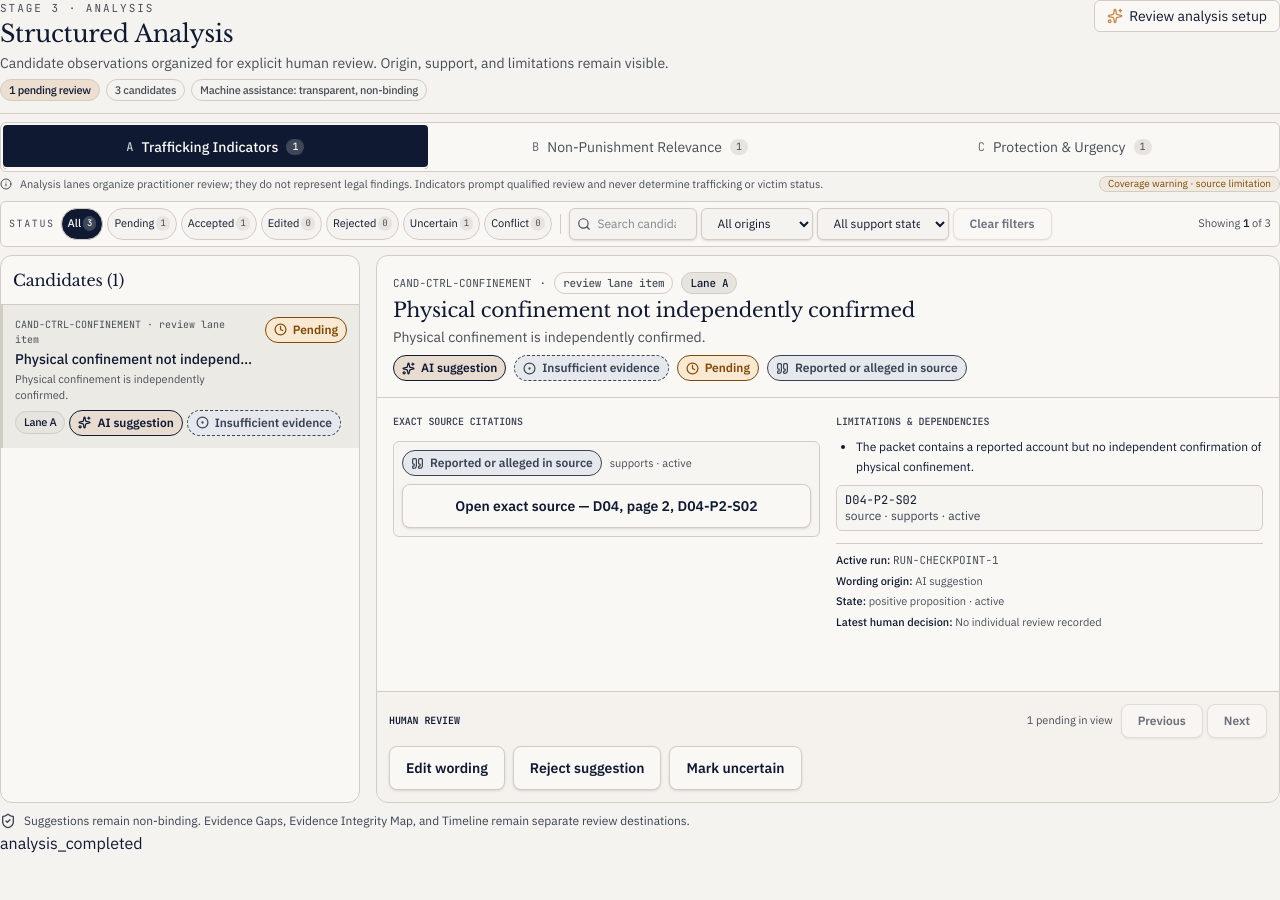
Scenario: Phase 3 Structured Analysis › opens the existing exact-source drawer and audits an intentional reveal
This screenshot has width=1280, height=900.
Click the button "Open exact source — D04, page 2, D04-P2-S02" at [606, 506], box top-left (402, 484), bottom-right (811, 528)
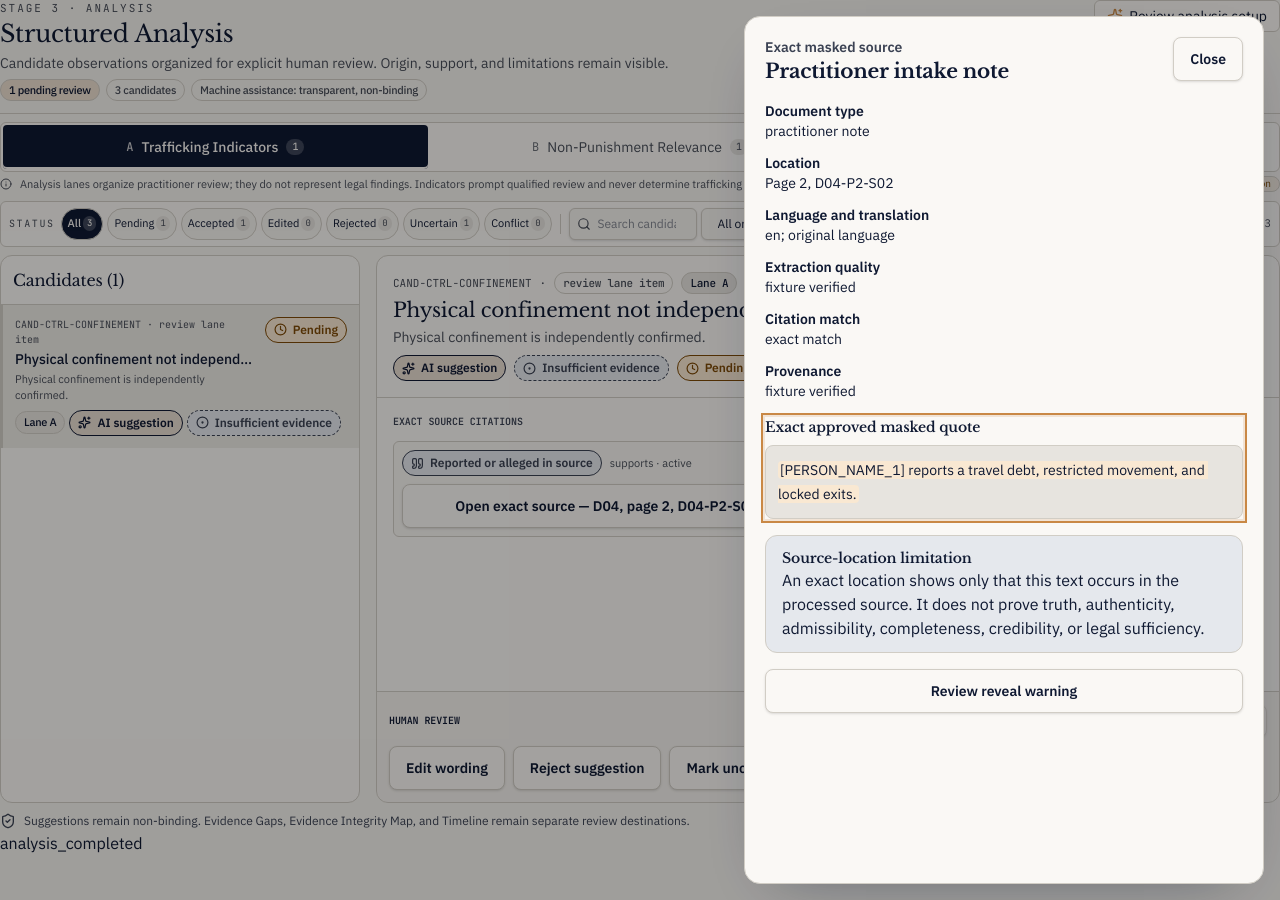
Now the heading "Exact approved masked quote" is shown, box top-left (765, 418), bottom-right (980, 436)
Click the button "Review reveal warning" at [1004, 691], box top-left (765, 669), bottom-right (1243, 713)
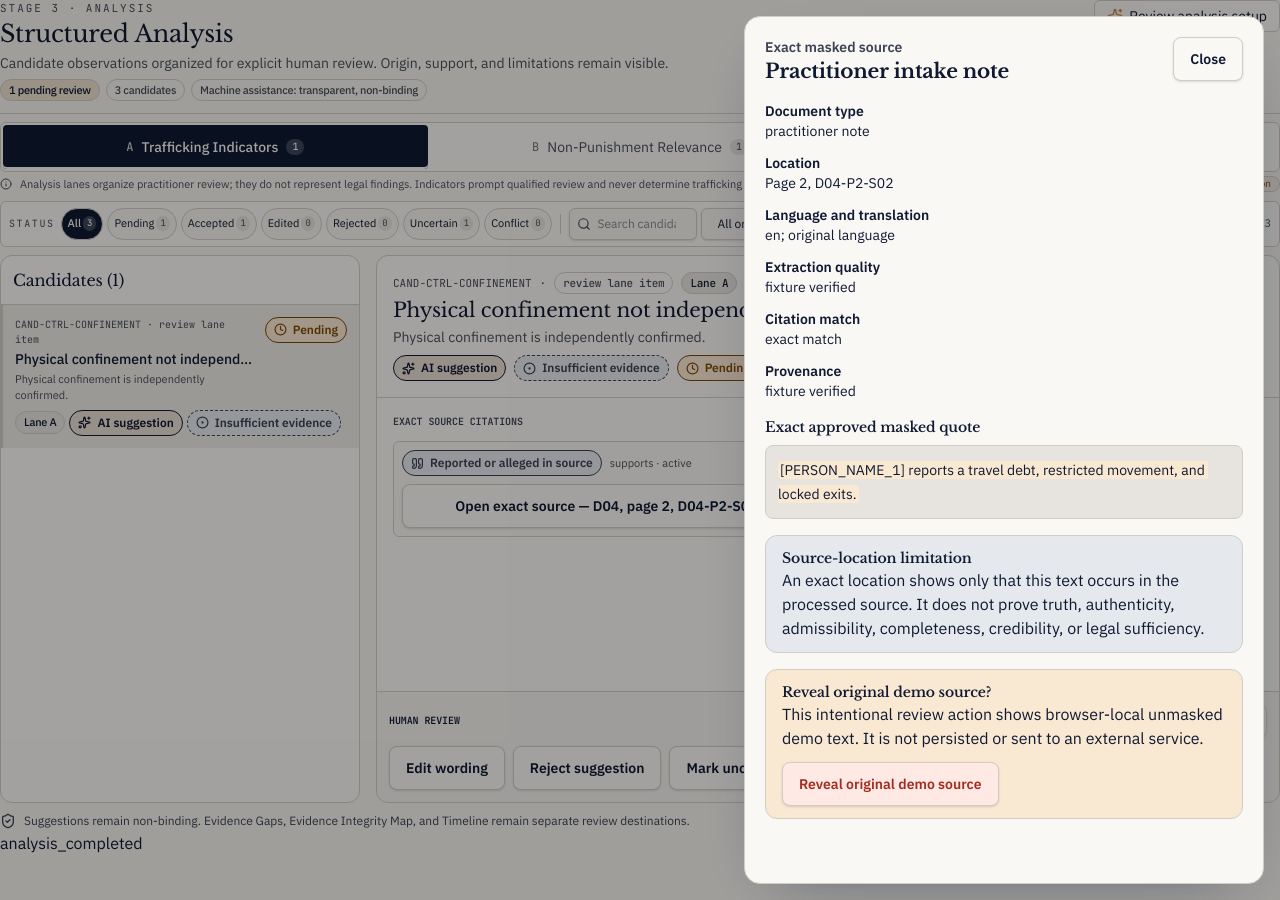
Click the button "Reveal original demo source" at [890, 784], box top-left (782, 762), bottom-right (998, 806)
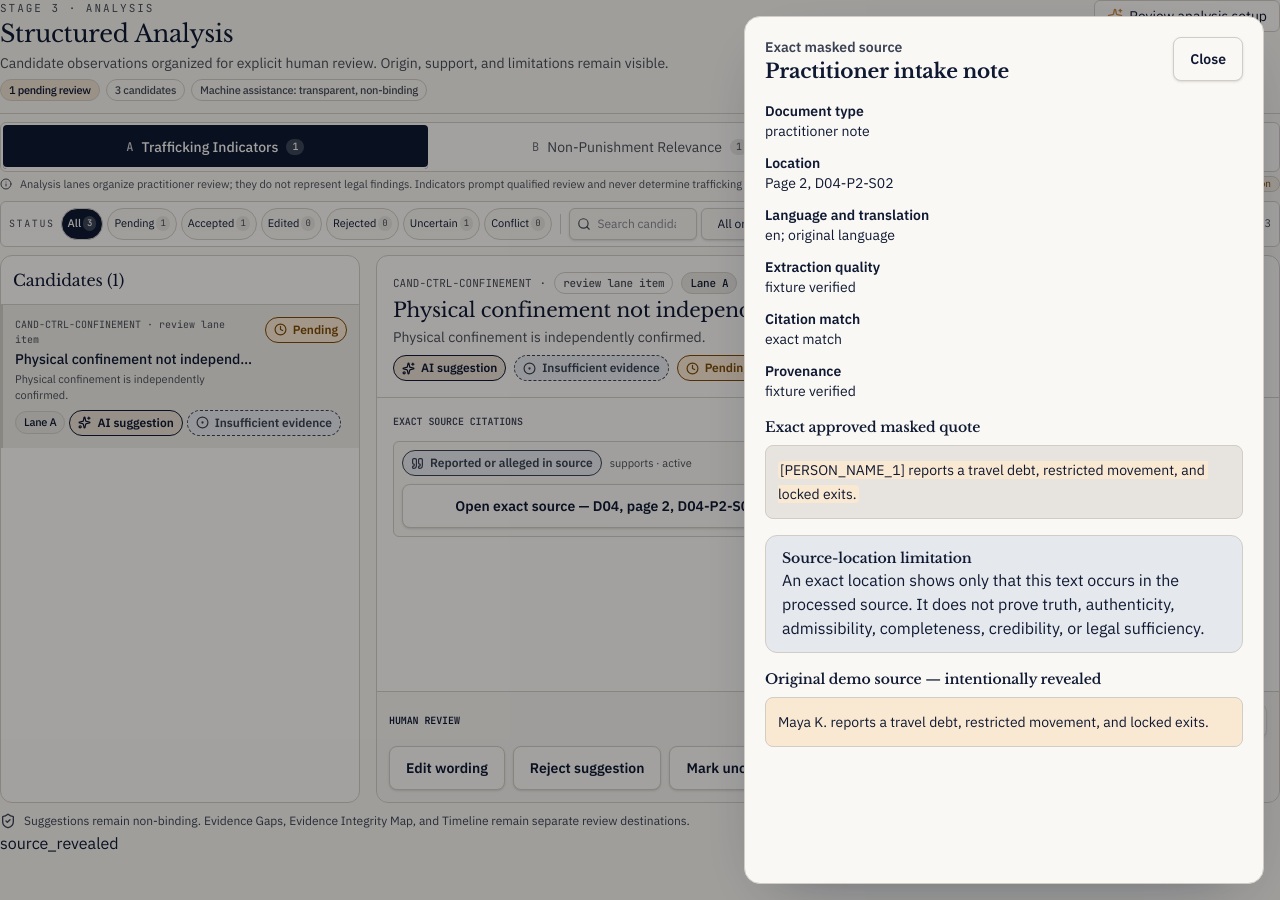
Now the text with test id "analysis-last-audit" reads "source_revealed", box top-left (0, 832), bottom-right (118, 852)
